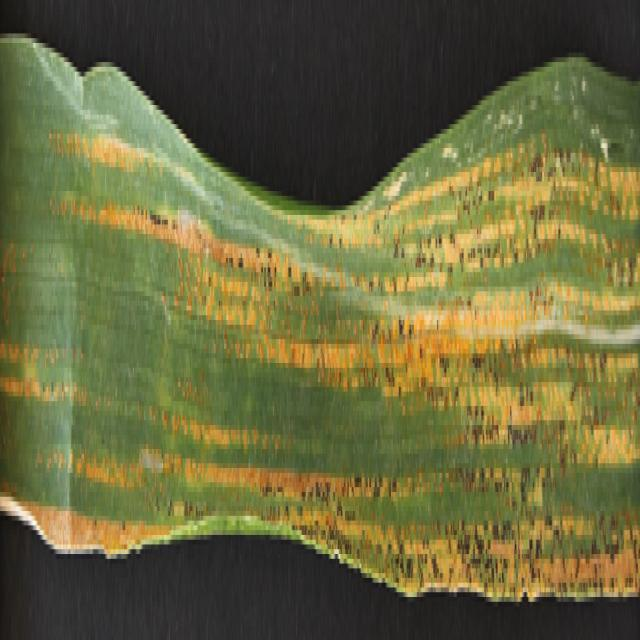leaf rust: (0, 47, 640, 625)
